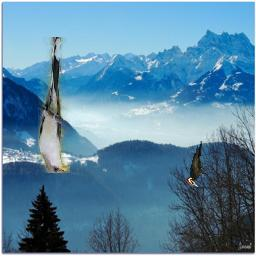Cuckoo: (38, 37, 70, 173)
Woodpecker: (184, 141, 204, 187)
